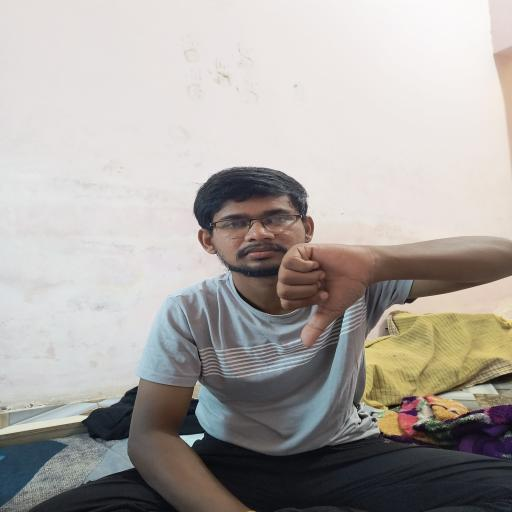Continue: (274, 235, 379, 353)
